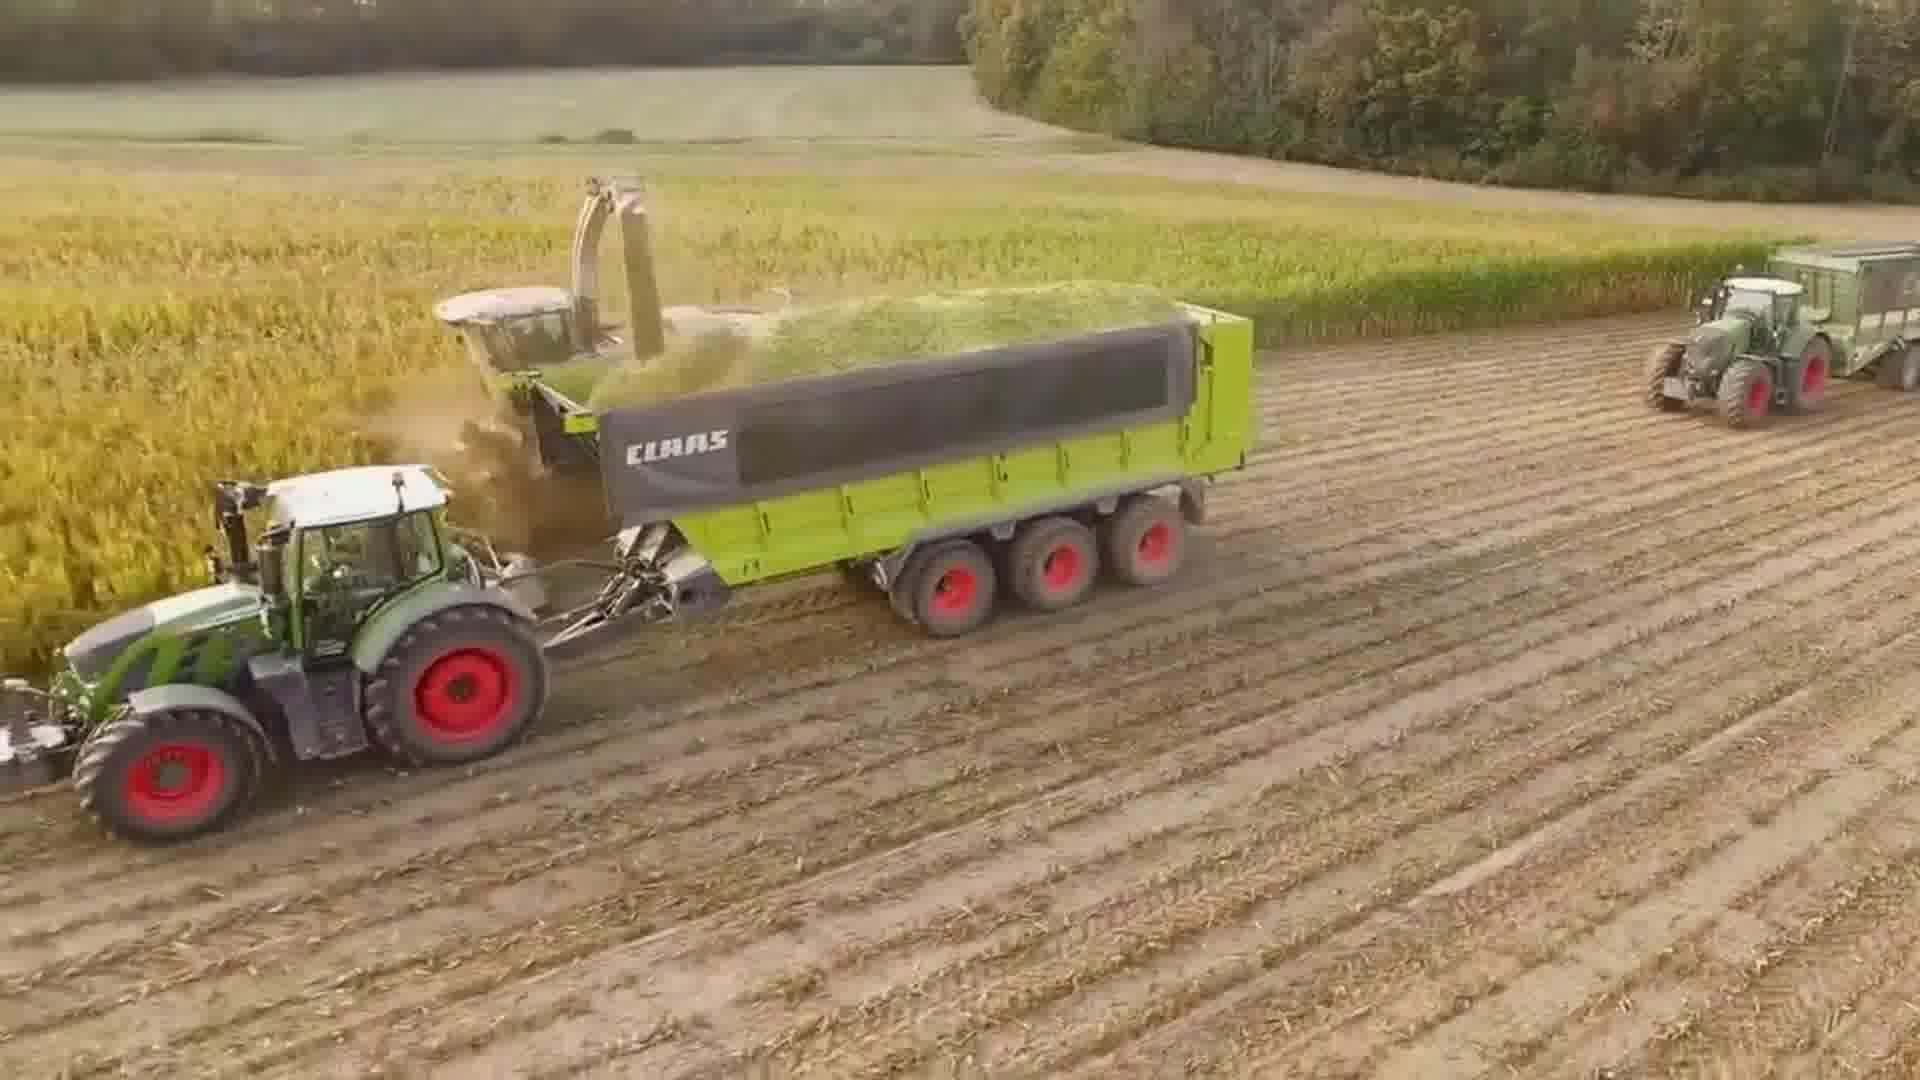combine harvester: (427, 161, 744, 403)
tractor: (0, 447, 560, 861), (1643, 270, 1839, 434)
trailer: (483, 270, 1259, 649), (1764, 231, 1920, 394)
